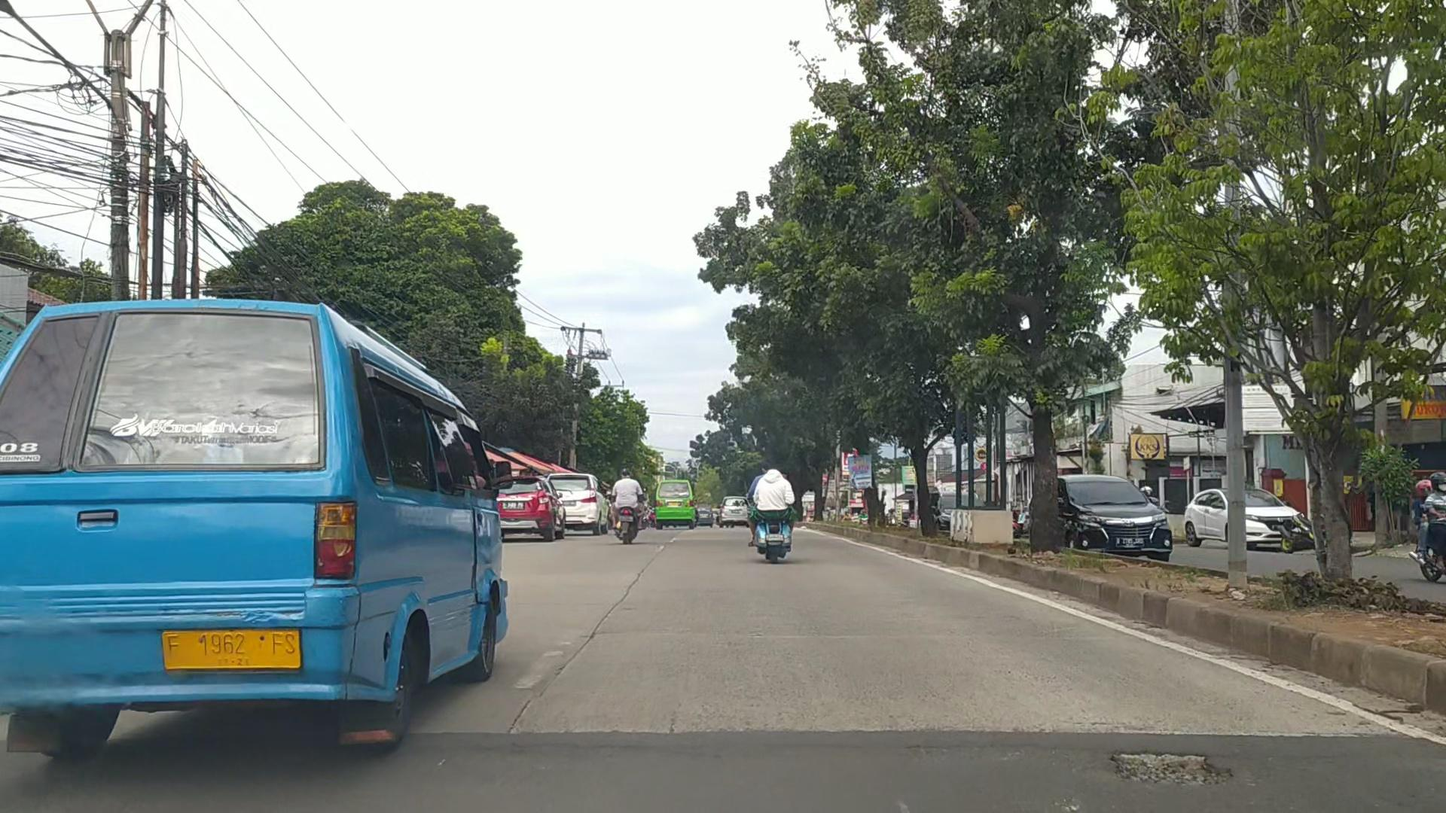pothole: (1110, 750, 1229, 787)
